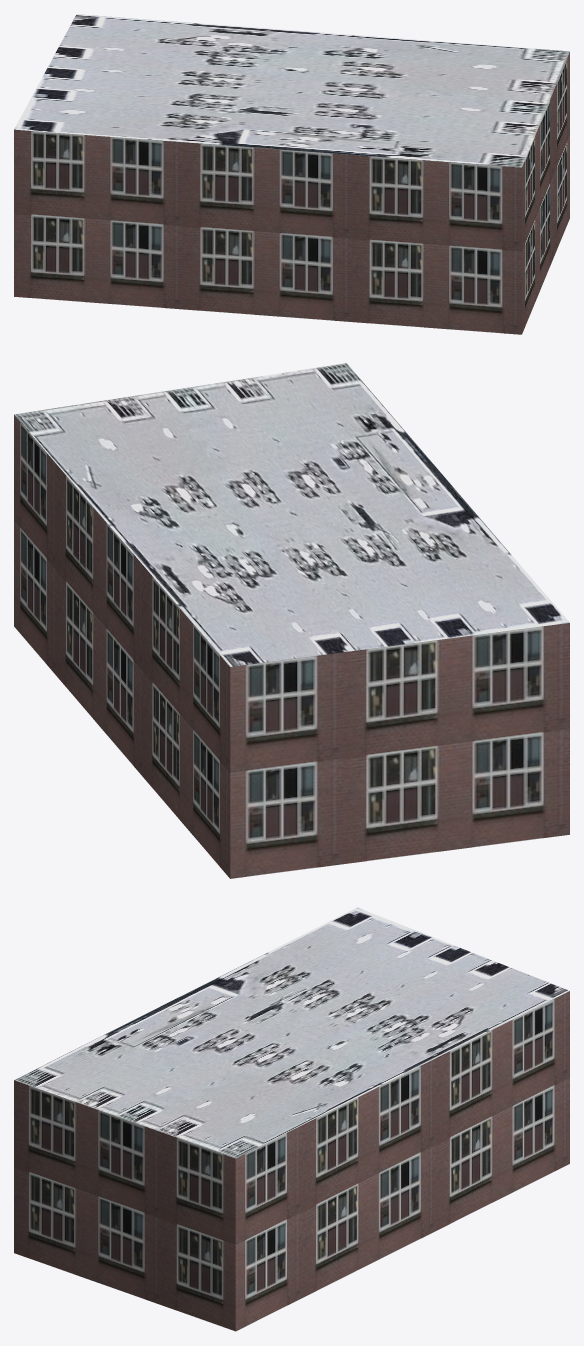
File: ResTex__5102.fbx
3 views of the same model, one above another, from view 1: azimuth 30°, elevation 25°; view 2: azimuth 150°, elevation 25°; view 3: azimuth 270°, elevation 25° (orthographic). The views are drawn at different scales.
Visible parts, largest first — view 1: CityEngineMaterial_12_m, CityEngineMaterial_m; view 2: CityEngineMaterial_12_m, CityEngineMaterial_m; view 3: CityEngineMaterial_12_m, CityEngineMaterial_m.
Boxes of the visible parts, bbox=[...] form: CityEngineMaterial_12_m: bbox=[14, 52, 569, 334]; CityEngineMaterial_m: bbox=[14, 14, 569, 167]; CityEngineMaterial_12_m: bbox=[14, 415, 569, 878]; CityEngineMaterial_m: bbox=[14, 363, 569, 666]; CityEngineMaterial_12_m: bbox=[14, 991, 569, 1331]; CityEngineMaterial_m: bbox=[14, 907, 569, 1158].
Bounding box in the file's own units: 18.68 × 6 × 17.48.
2 materials, 2 textured.
